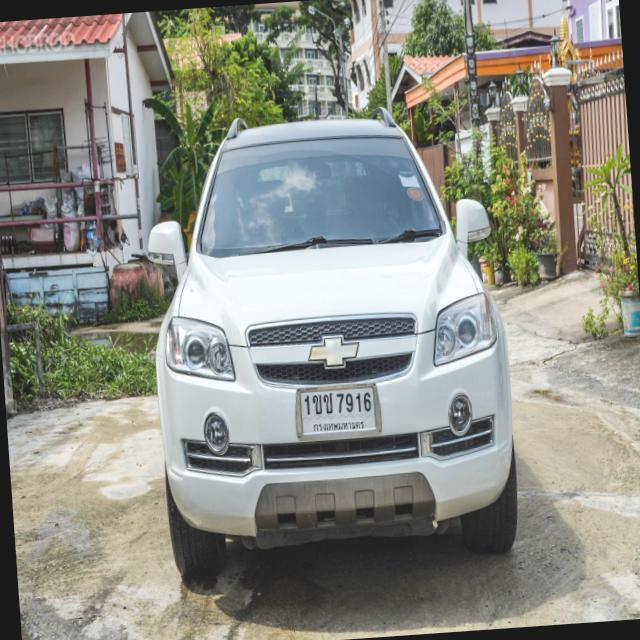license_plate: (292, 378, 385, 444)
